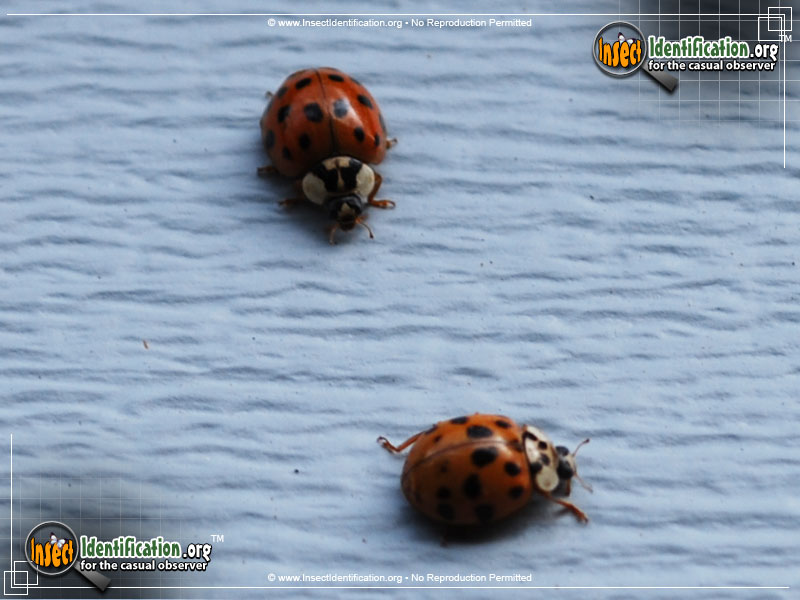Asian Multicolored Lady Beetle: (369, 398, 615, 549), (235, 63, 409, 248)
